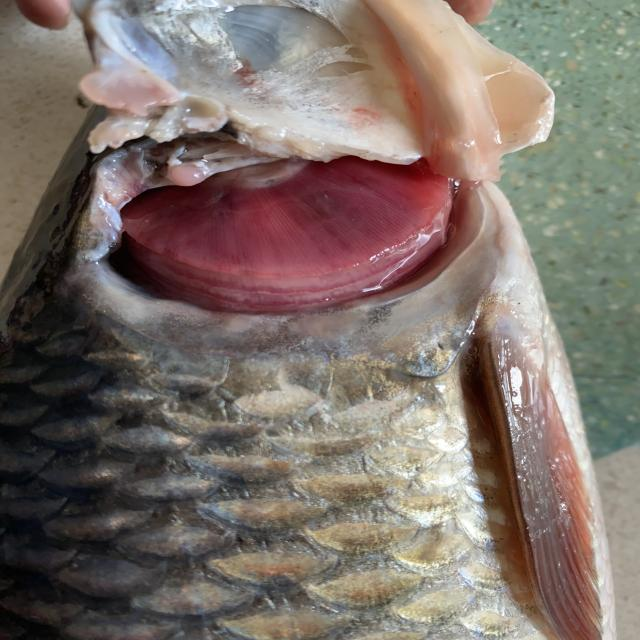Fresh: (67, 144, 532, 327)
